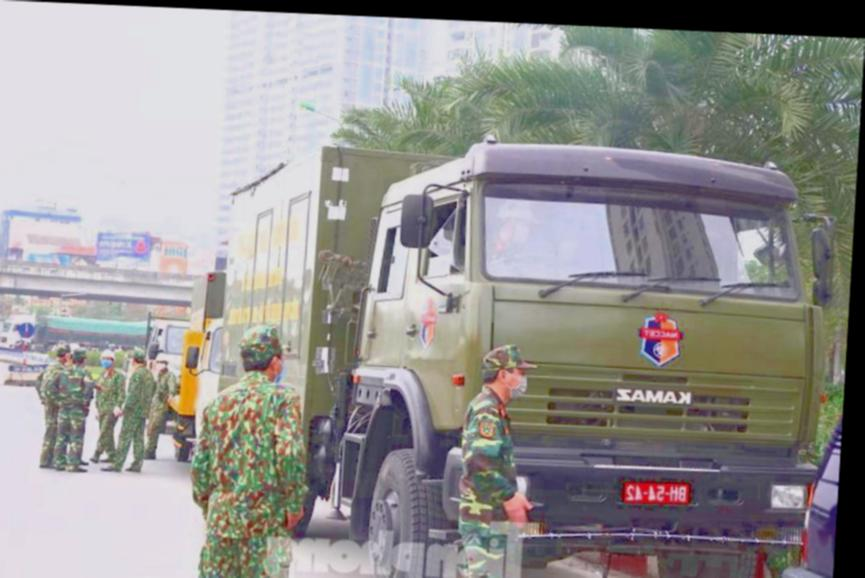License_Plate: (621, 479, 694, 511)
